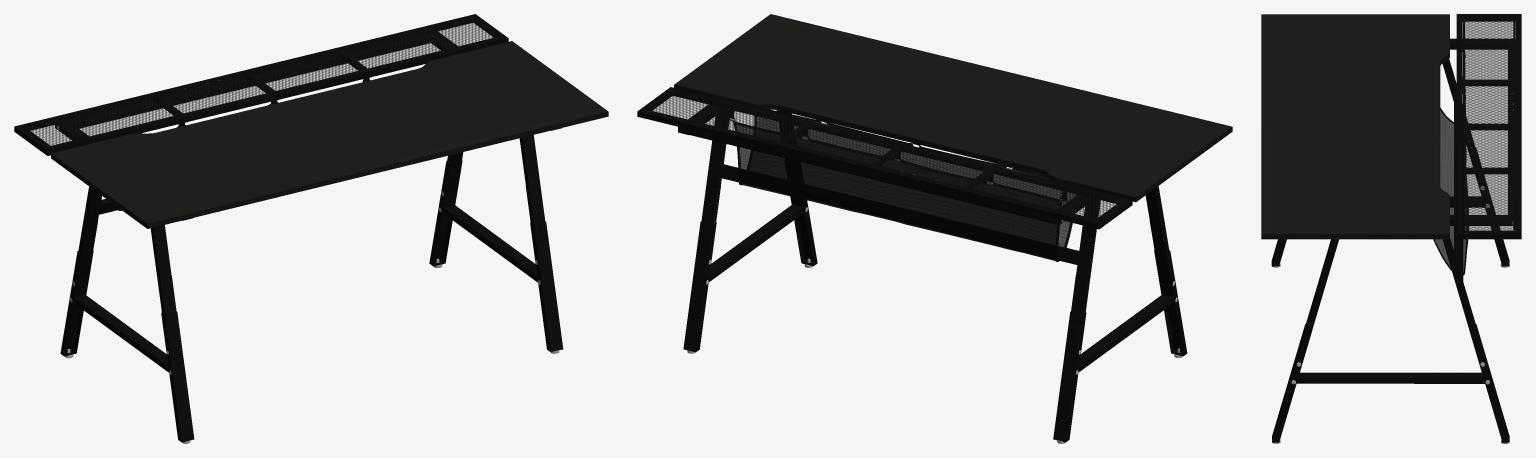
The picture shows the model from 3 angles, left to right: view 1: azimuth 30°, elevation 25°; view 2: azimuth 150°, elevation 25°; view 3: azimuth 270°, elevation 25°; orthographic projection. The views are drawn at different scales.
Bounding box in the file's own units: 1.6 × 0.7804 × 0.7997.
2 materials, 2 textured.
